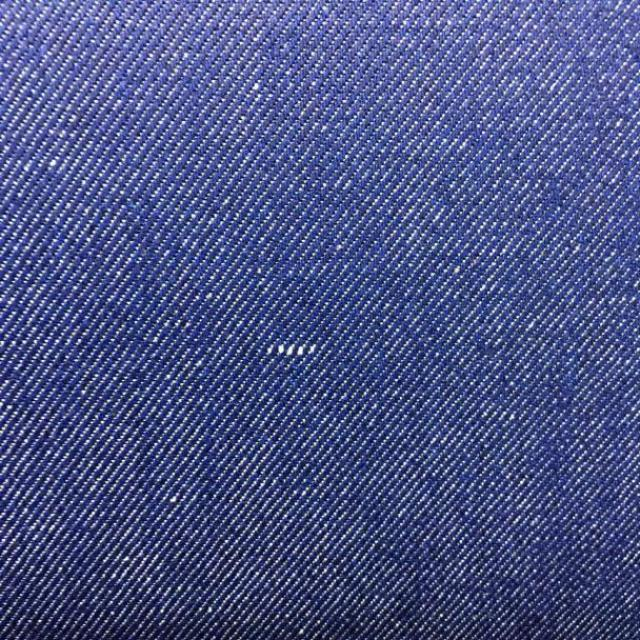Knot: (266, 343, 317, 357)
